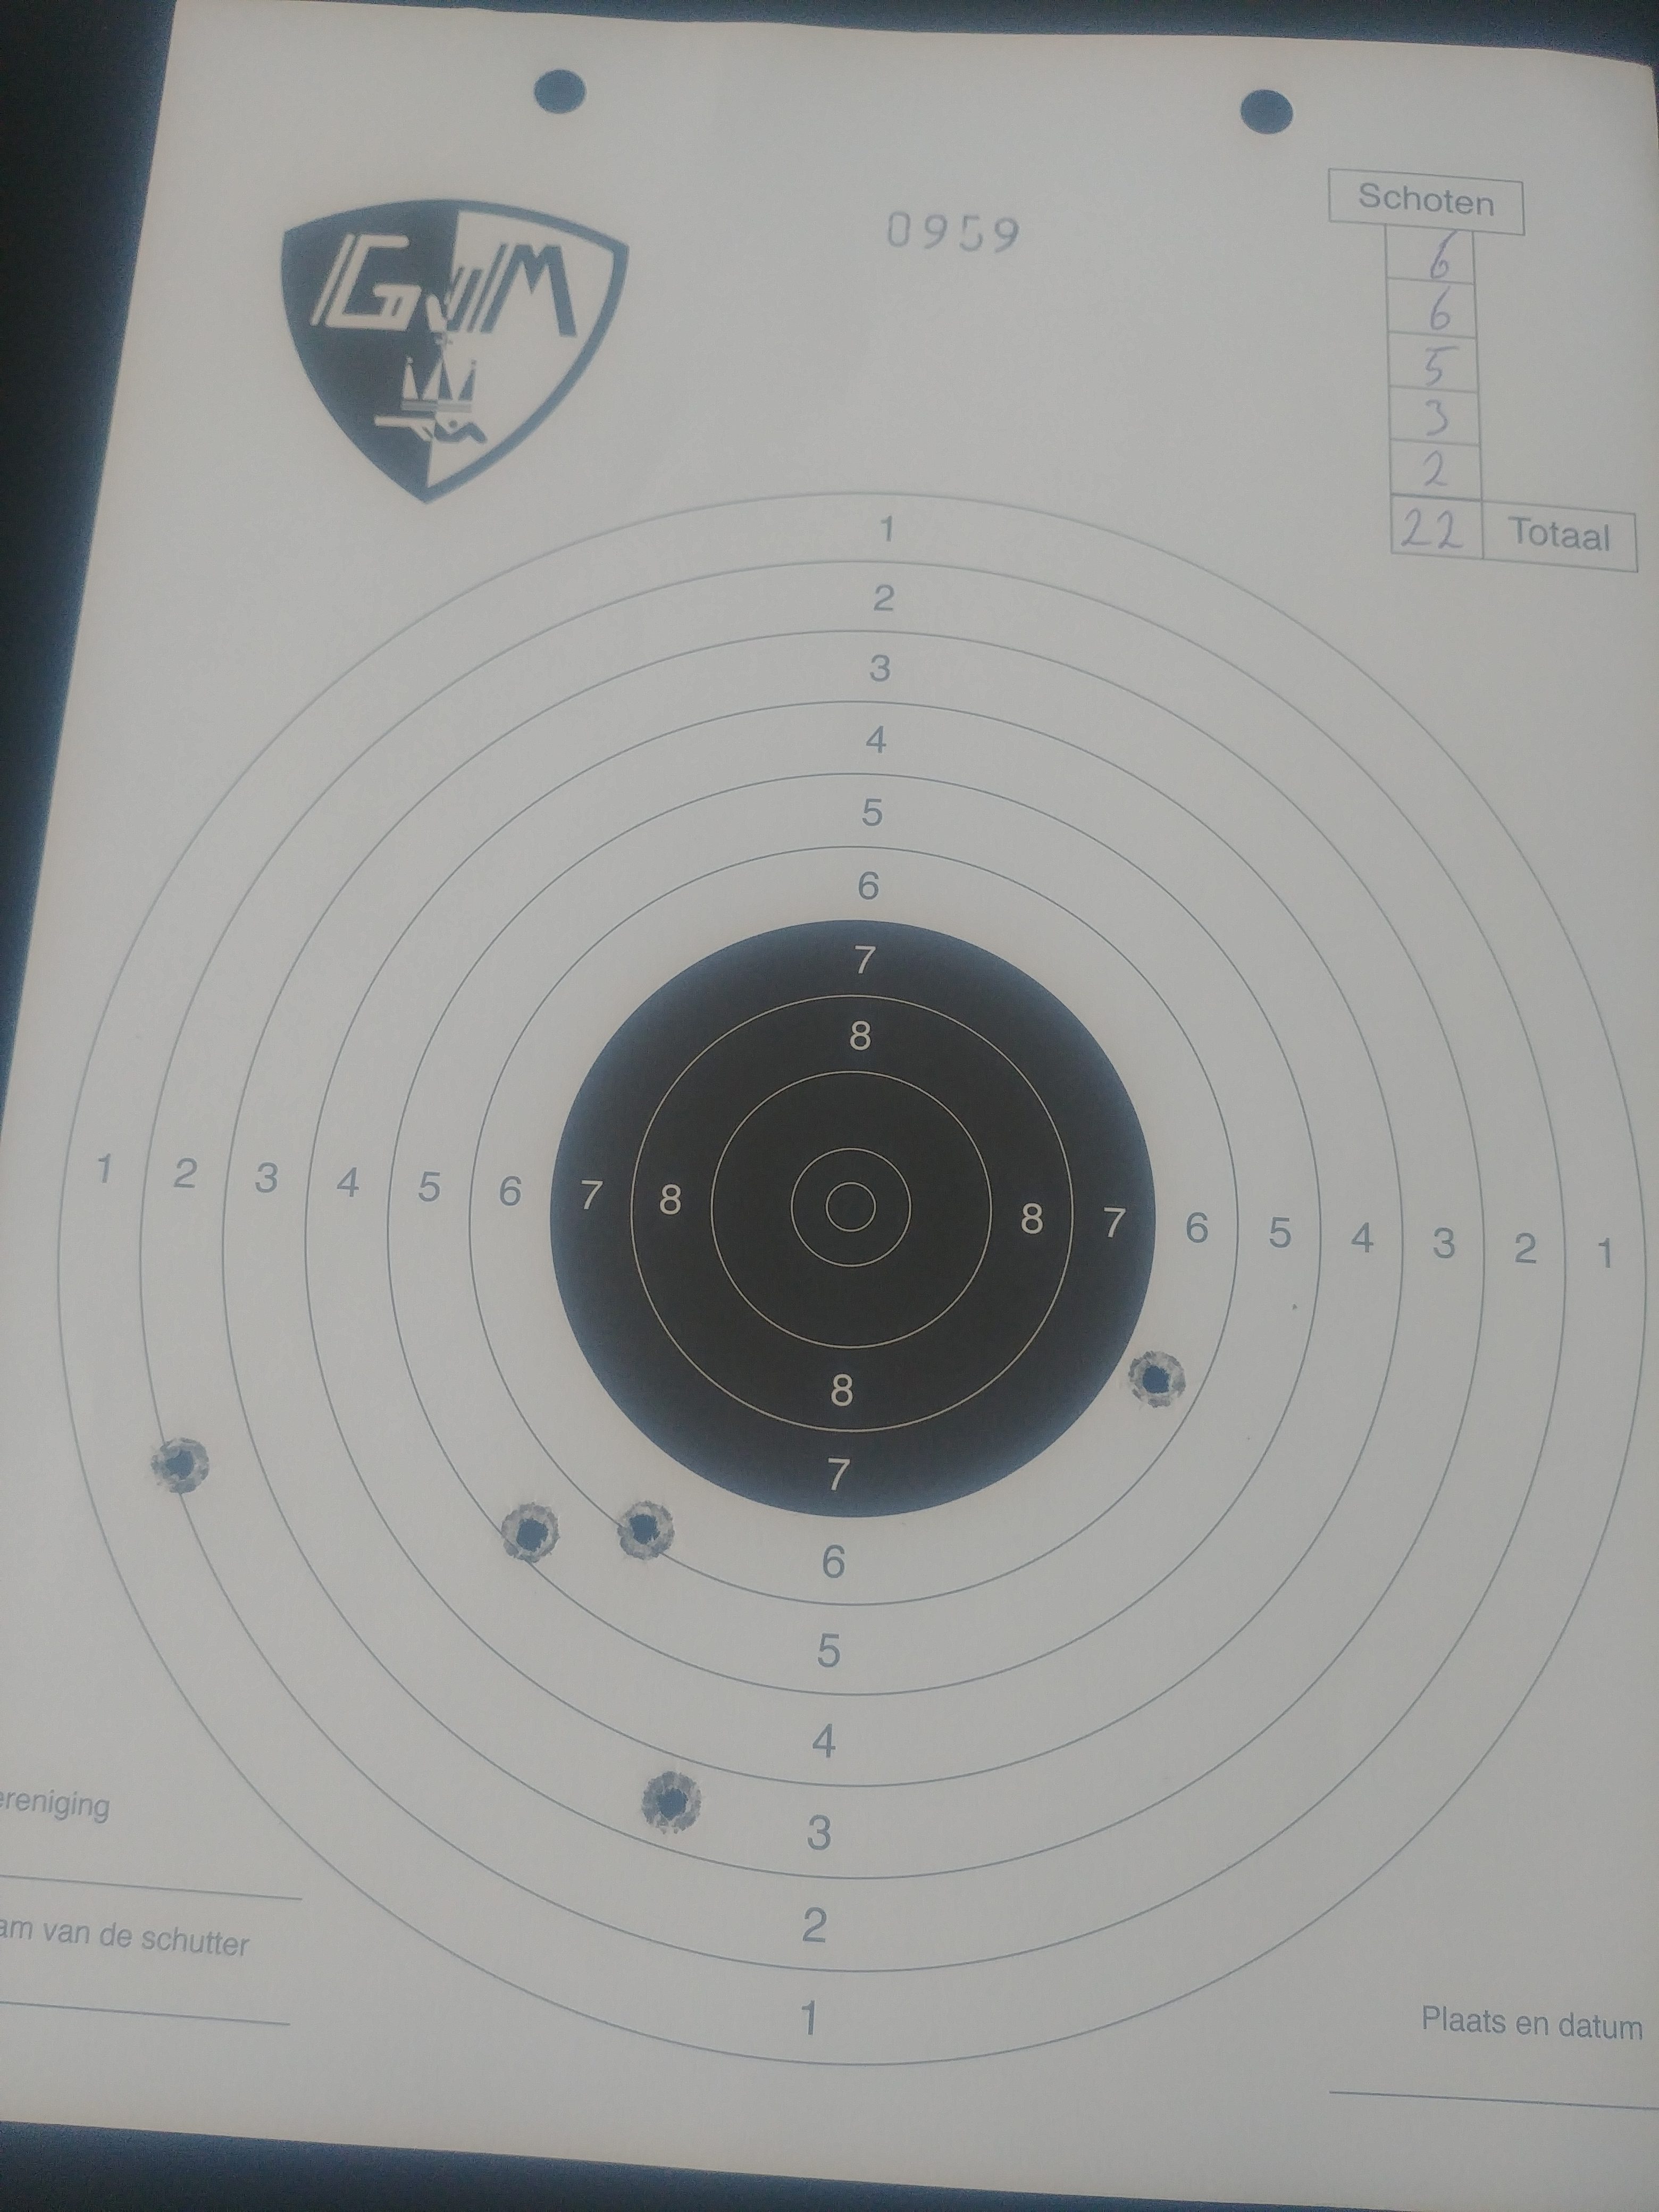center: (549, 916, 1159, 1521)
out: (51, 484, 1650, 2073)
shot: (638, 1768, 708, 1838), (495, 1500, 563, 1564), (615, 1500, 678, 1564), (1122, 1350, 1190, 1409), (148, 1435, 209, 1494)
target: (788, 1146, 911, 1271)
